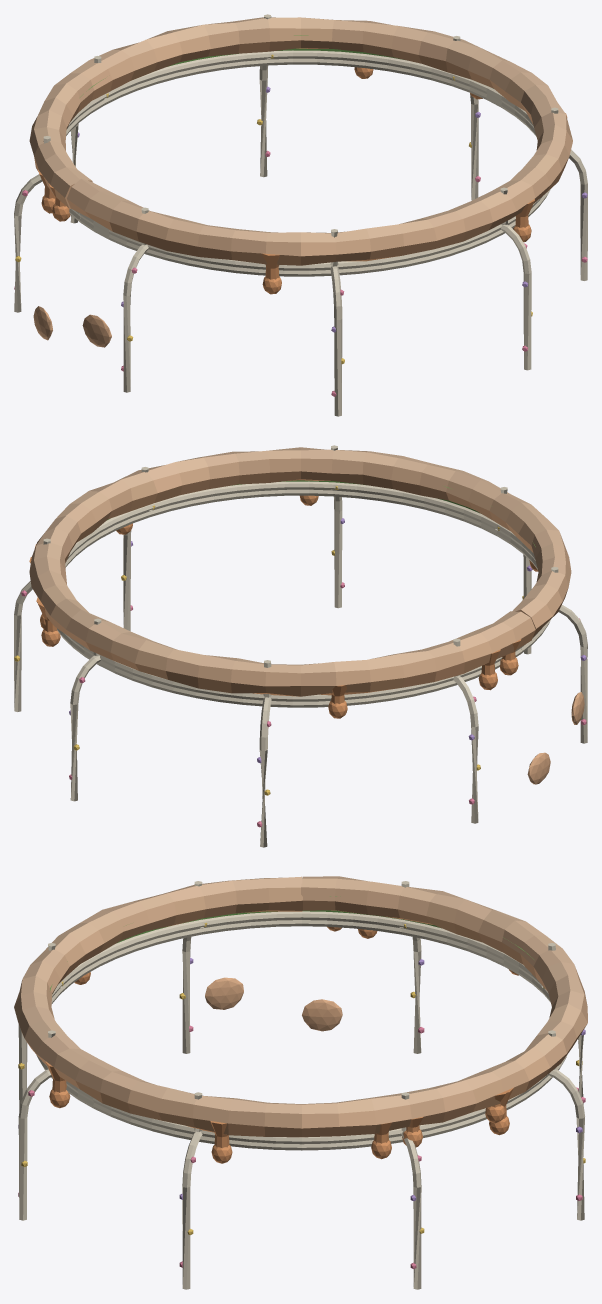
Rendered from goo_jar_trim_3_mid@garden.fbx.
The picture shows the model from 3 angles, top to bottom: view 1: azimuth 30°, elevation 25°; view 2: azimuth 150°, elevation 25°; view 3: azimuth 270°, elevation 25°; orthographic projection. The views are drawn at different scales.
Visible parts, largest first — view 1: goo_jar_trim_3_mid; view 2: goo_jar_trim_3_mid; view 3: goo_jar_trim_3_mid.
Boxes of the visible parts, x1,y1,x2,y2 form: goo_jar_trim_3_mid: (14,14,587,416); goo_jar_trim_3_mid: (14,445,587,847); goo_jar_trim_3_mid: (14,876,587,1289).
Size of the model in its own units: 47.64 by 16.05 by 45.98.
